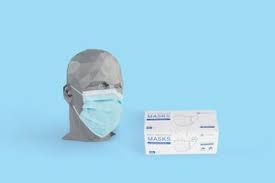with-mask: (59, 53, 124, 144)
